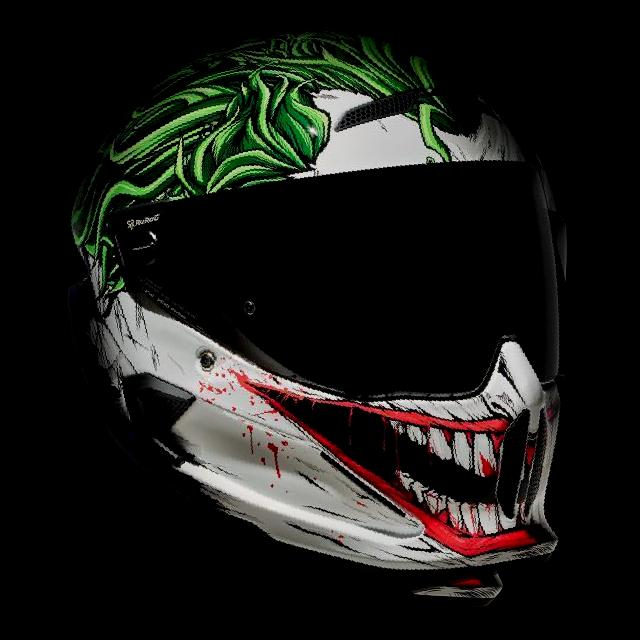helmet: (43, 4, 597, 631)
